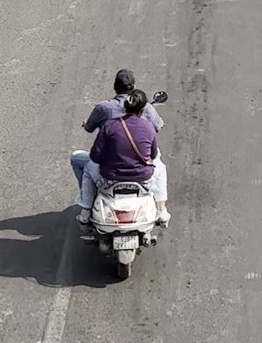BikeWithRider: (61, 59, 185, 283)
NoHelmet: (111, 66, 139, 97), (122, 90, 149, 120)
